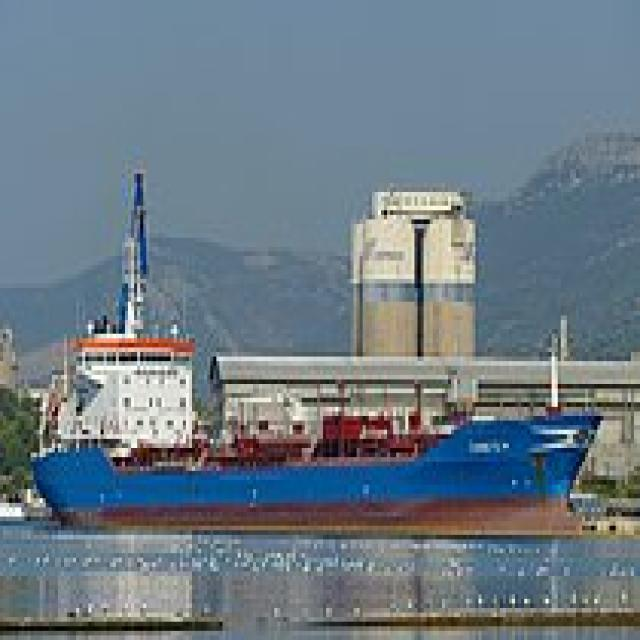Tanker: (21, 324, 604, 540)
